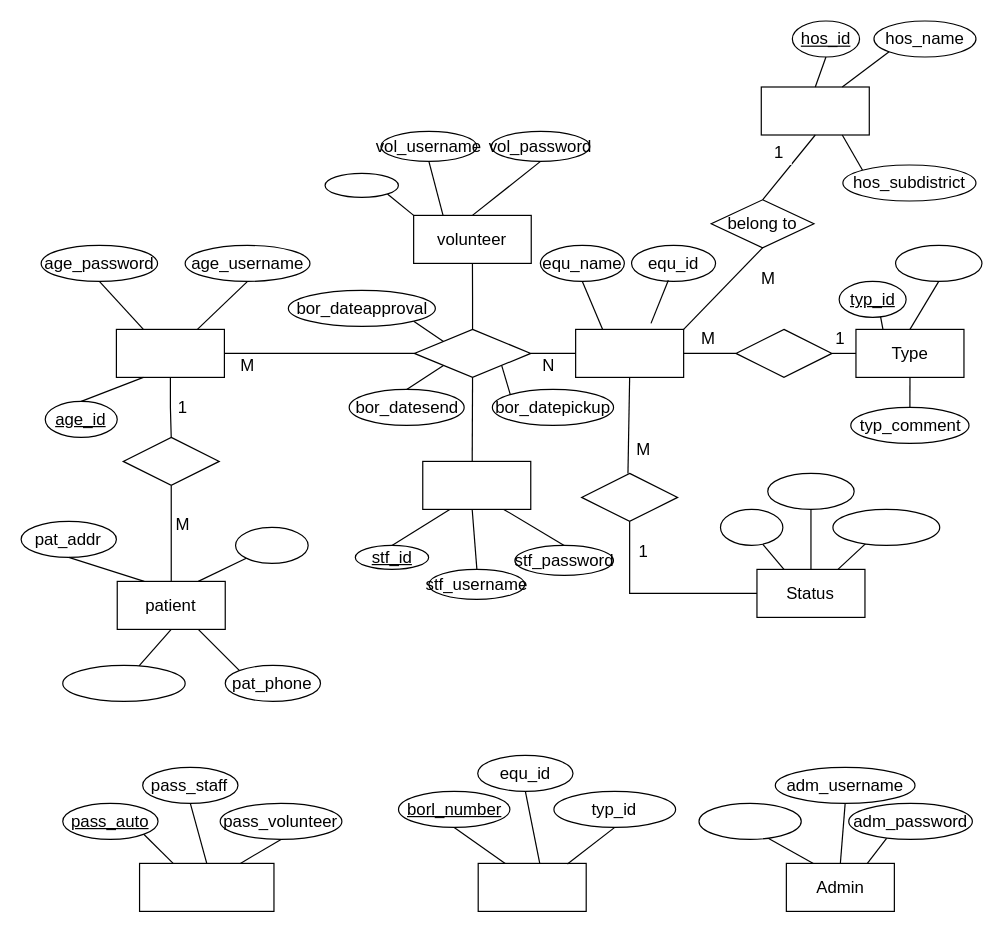
The diagram is 1003 pixels wide and 932 high, and some of its shapes have lost their labels. The shapes that lost their labels are listed below. From the top down, each one's box as (x1, y1, x2, y2) in pixels, then its label:
(760, 86, 869, 135): hospital
(324, 172, 398, 197): vol_id
(894, 244, 982, 281): typ_name
(115, 328, 224, 377): agent
(413, 328, 531, 377): borrowlist
(574, 328, 684, 377): equipment
(735, 328, 832, 377): have
(122, 436, 219, 485): care
(422, 460, 531, 509): staff
(580, 472, 678, 521): has
(767, 472, 854, 509): sta_name
(234, 526, 308, 563): pat_id
(719, 508, 783, 545): sta_id
(832, 508, 940, 545): sta_comment
(62, 664, 185, 701): pat_numberhn
(698, 802, 801, 839): adm_auto
(138, 862, 274, 911): passwordregis
(477, 862, 586, 911): borrowhistory
